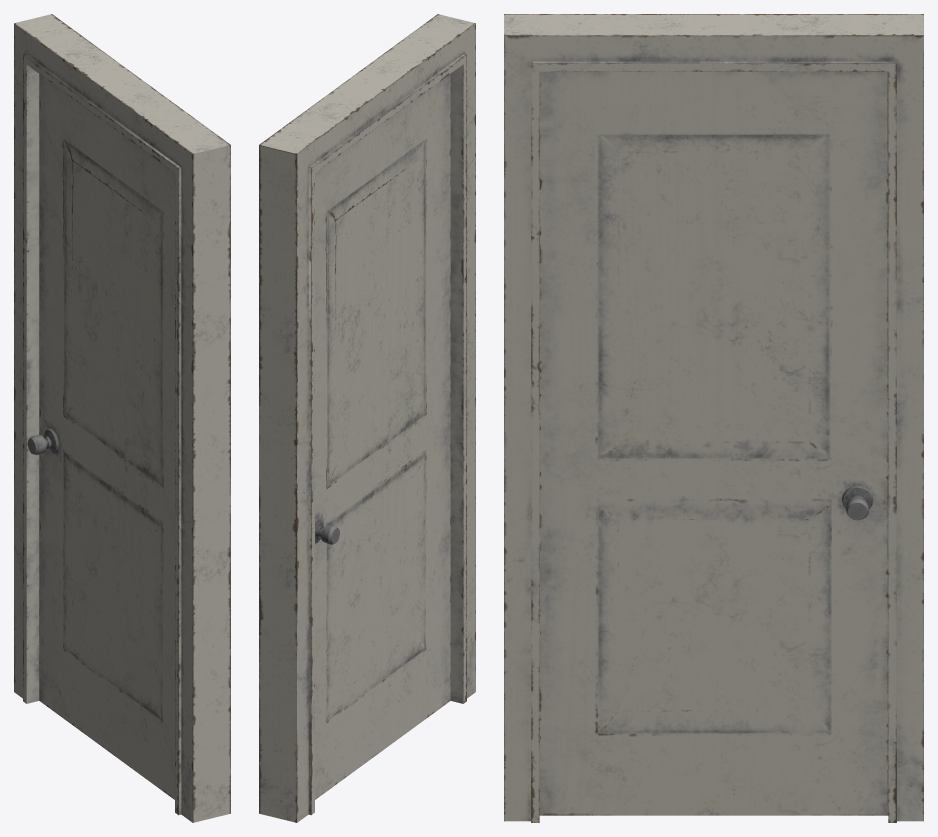
Rendered from Door.fbx.
3 views of the same model, side by side, from view 1: azimuth 30°, elevation 25°; view 2: azimuth 150°, elevation 25°; view 3: azimuth 270°, elevation 25° (orthographic). The views are drawn at different scales.
Visible parts, largest first — view 1: Door_low.002; view 2: Door_low.002; view 3: Door_low.002.
Boxes of the visible parts, box(x1,y1,x2,y2) form: Door_low.002: box(14, 14, 230, 822); Door_low.002: box(259, 14, 475, 822); Door_low.002: box(504, 14, 923, 822).
Size of the model in its own units: 21.48 by 232 by 113.
1 material, 1 textured.
